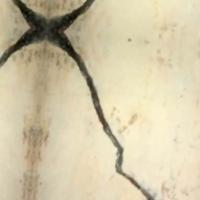crack: (0, 2, 164, 198)
